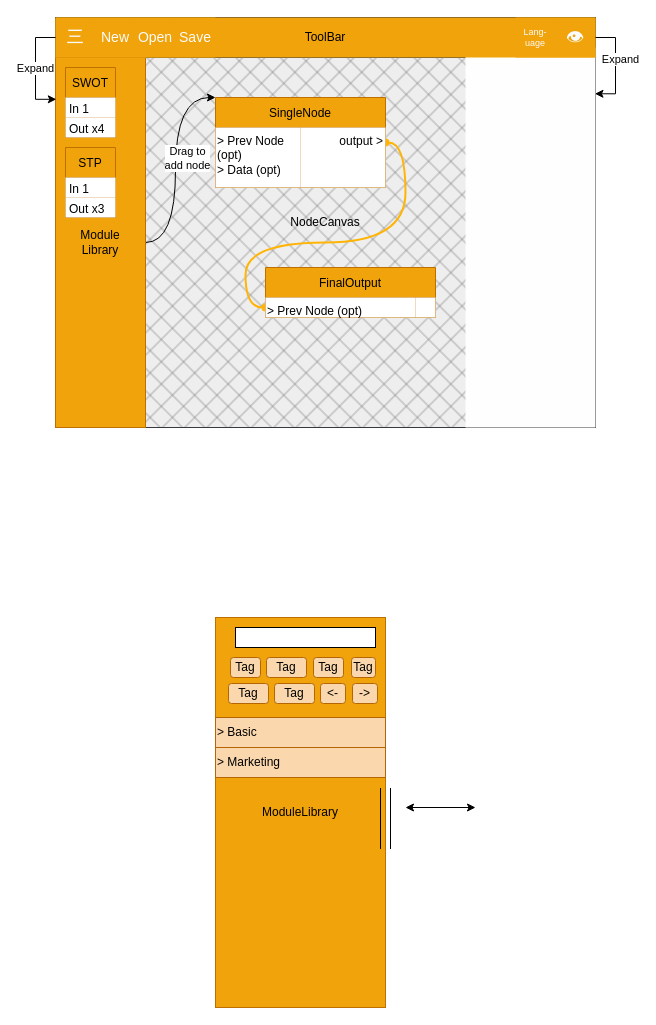
The diagram is 656 pixels wide and 1025 high, and some of its shapes have lost their labels. The centre of each missing label's shape, as x and y in pixels:
<Searchbar>: the point at 305,637
Prompt Preview: the point at 530,237
